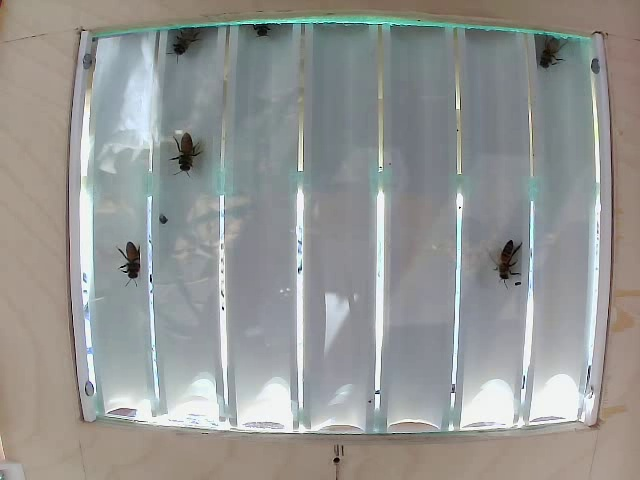bee: (487, 233, 548, 289), (165, 121, 199, 168), (111, 243, 147, 282)
